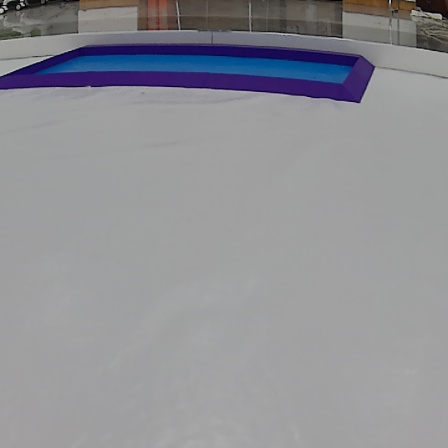blue_aim: (5, 41, 375, 110)
